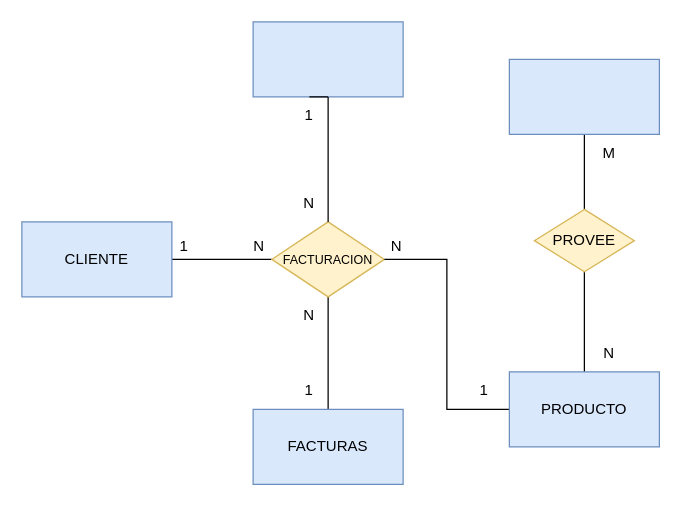
The diagram is 681 pixels wide and 506 high, and some of its shapes have lost their labels. The shapes that lost their labels are listed below. From the top down, each one's box as (x1, y1, x2, y2) in pixels, then its label:
(252, 21, 403, 97): EMPLEADO
(508, 58, 659, 134): PROVEEDORES
